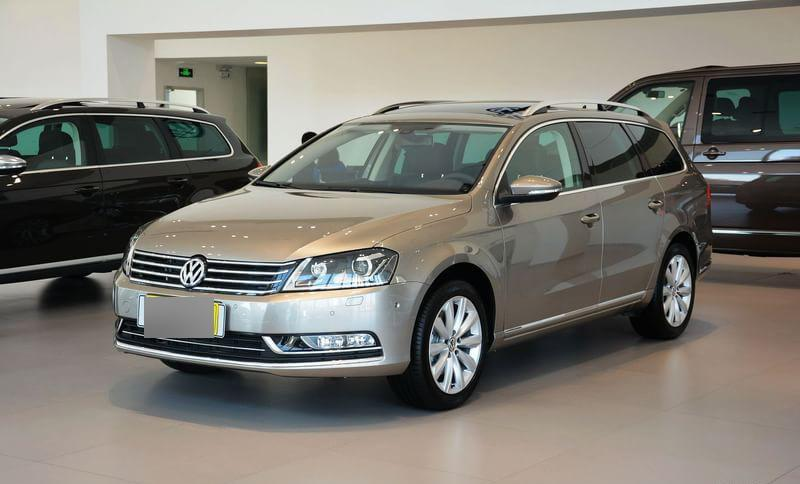Wagon: (111, 97, 715, 410)
